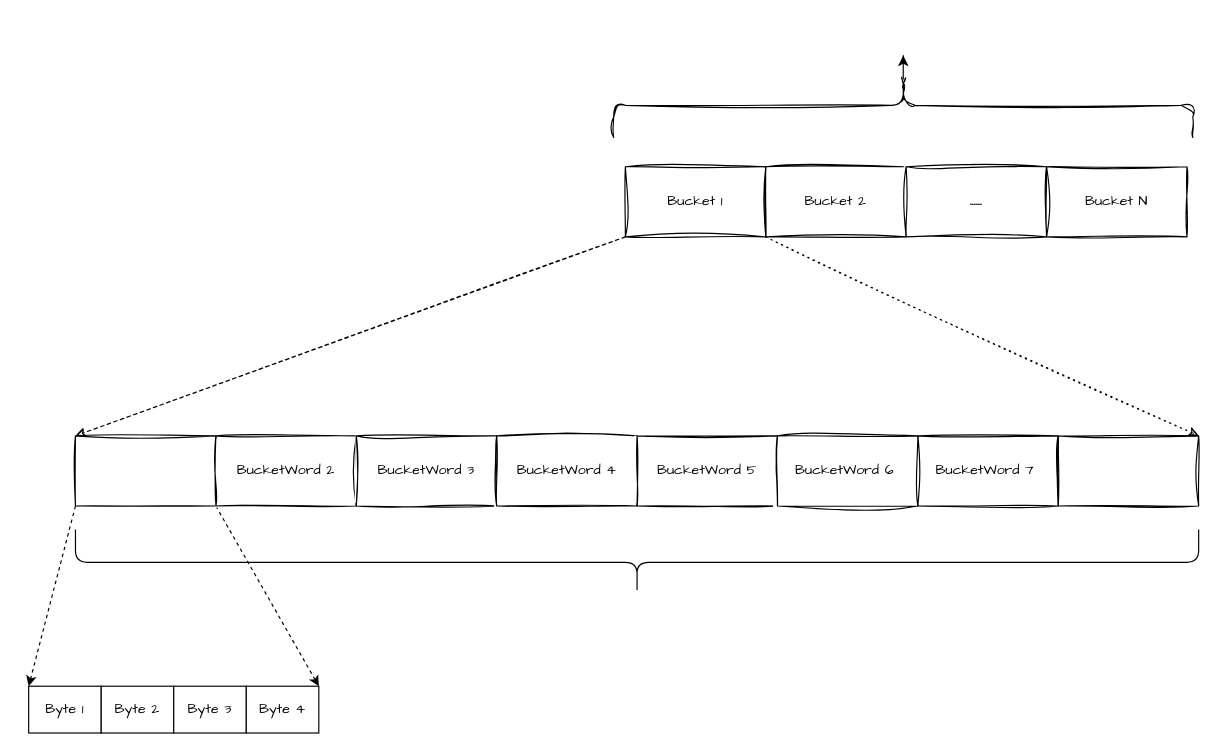
Some shapes in this 1229 by 753 pixel diagram are drawn without their labels. The shapes that lost their labels are listed below. From the top down, each one's centre as x and y in pixels, then its label:
the point at 902,104: directory
the point at 145,470: BucketWord 1
the point at 1128,470: BucketWord 8
the point at 636,561: 8 Words * 4 bytes/word = 32 bytes = 256 bits
